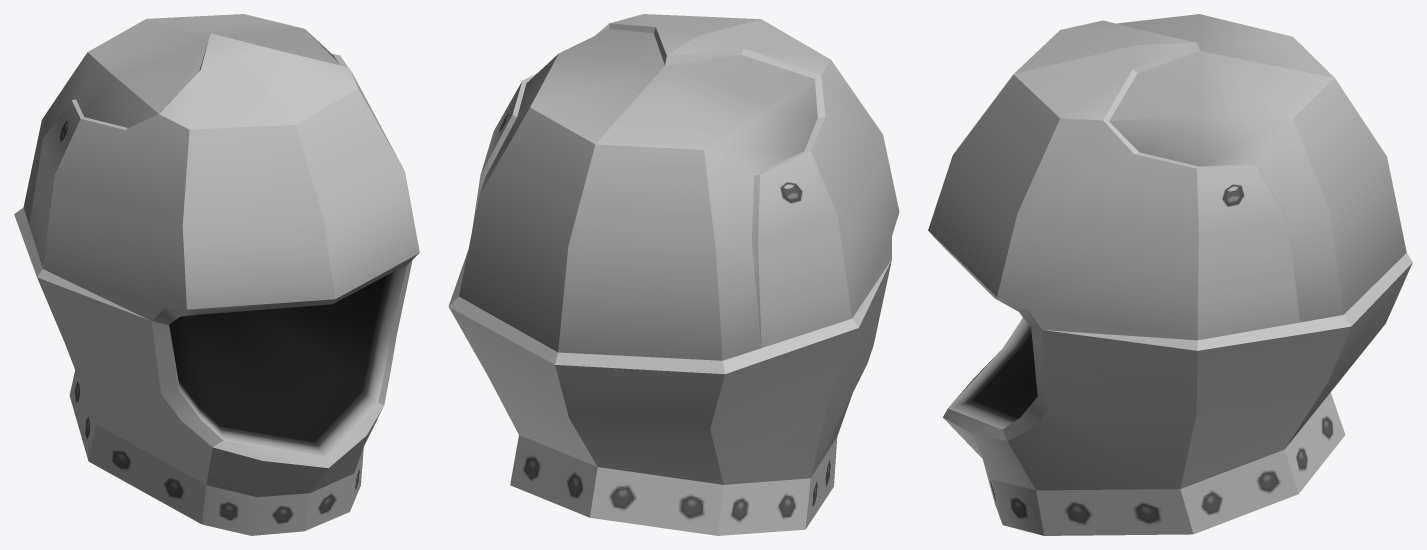
The model's file is ArmetHelmet_M.glb.
3 views of the same model, side by side, from view 1: azimuth 30°, elevation 25°; view 2: azimuth 150°, elevation 25°; view 3: azimuth 270°, elevation 25° (orthographic). The views are drawn at different scales.
Parts seen in each view (by area): view 1: ArmetHelmet_M; view 2: ArmetHelmet_M; view 3: ArmetHelmet_M.
Part boxes in pixels (<box>): ArmetHelmet_M: <box>14,14,419,535</box>; ArmetHelmet_M: <box>448,14,899,535</box>; ArmetHelmet_M: <box>928,14,1412,535</box>.
Size of the model in its own units: 0.2878 by 0.3409 by 0.3245.
Materials: 1 (1 with a texture image).
